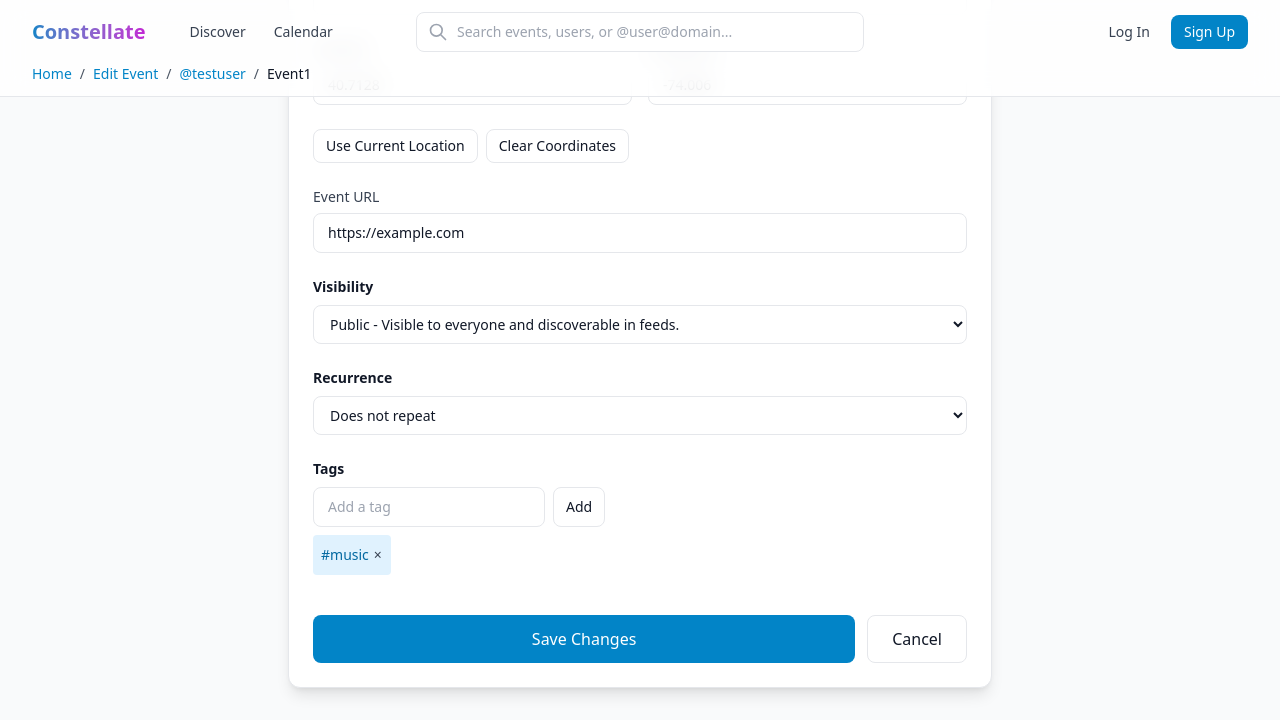
it: EditEventPage › should add tags
This screenshot has width=1280, height=720.
(page scrolled)
Expected: the link "Edit Event" is shown, [93,64,158,84]
Type "newtag" into the field with placeholder "Add a tag".
click(429, 507); type("newtag")  # box [313,487,545,527]
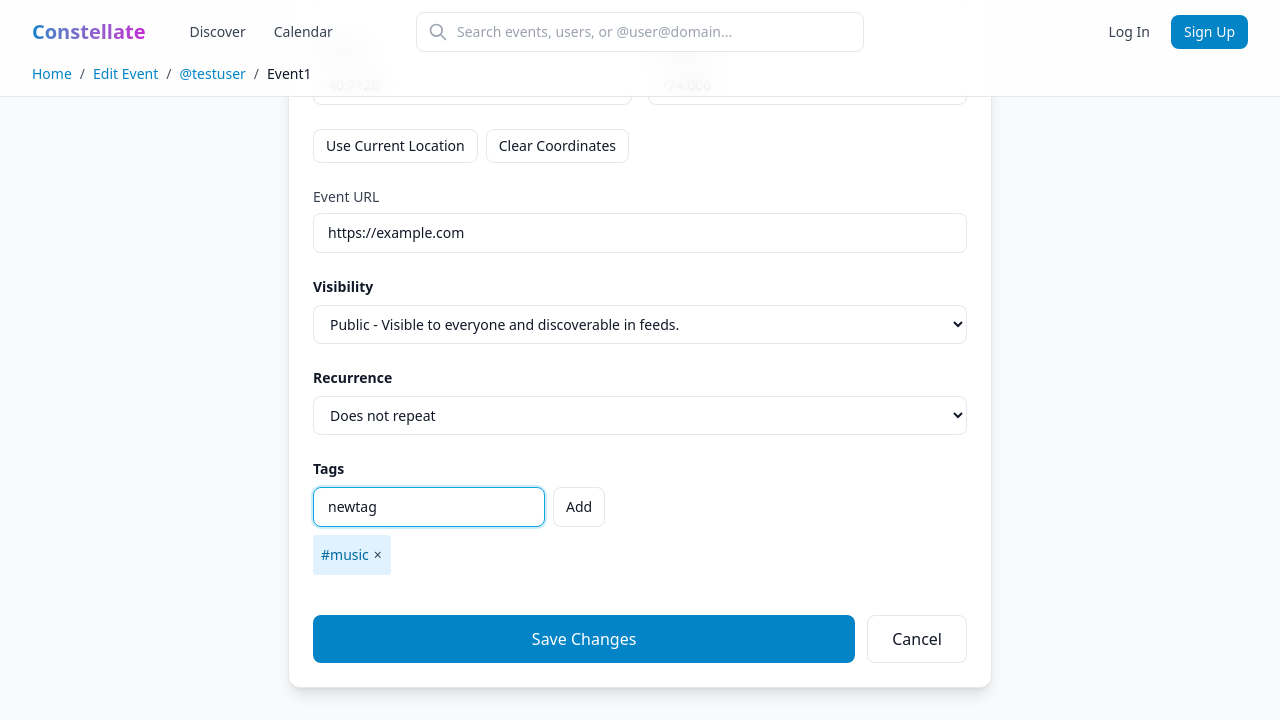
Click the button "Add".
click(579, 507)  # box [553,487,605,527]
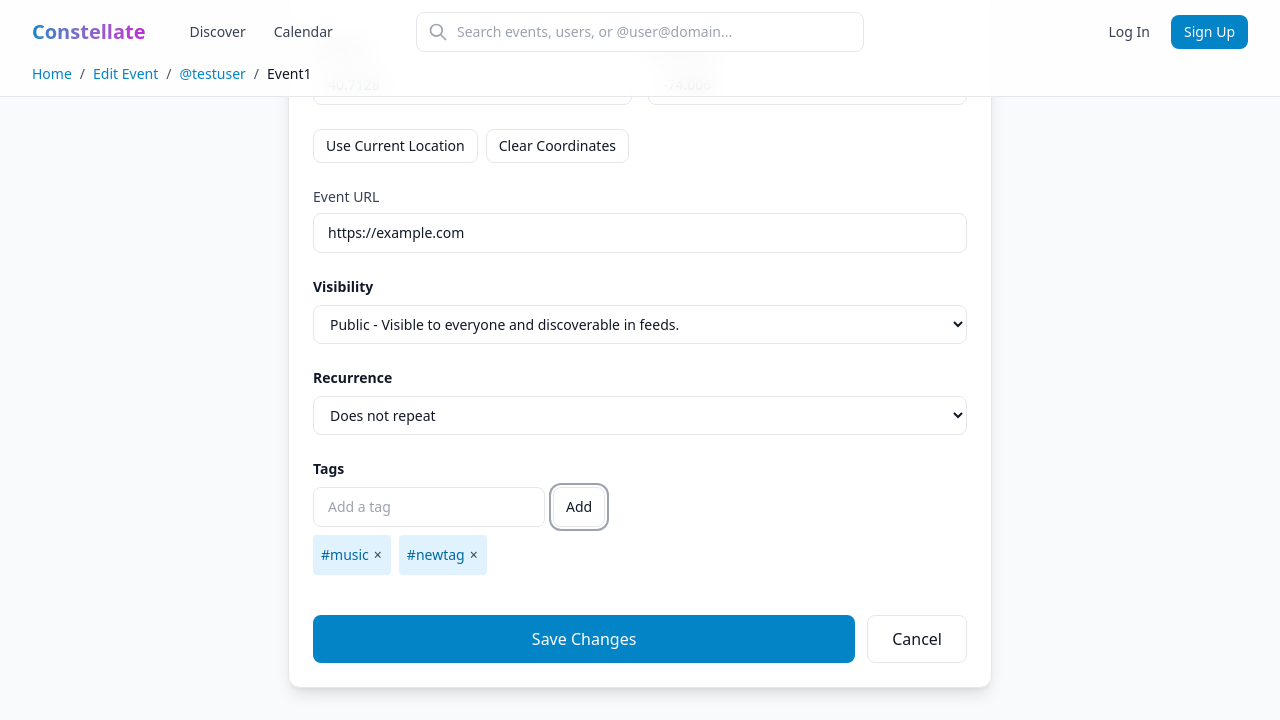
Expected: the text "#newtag" is shown, [399,535,487,575]
